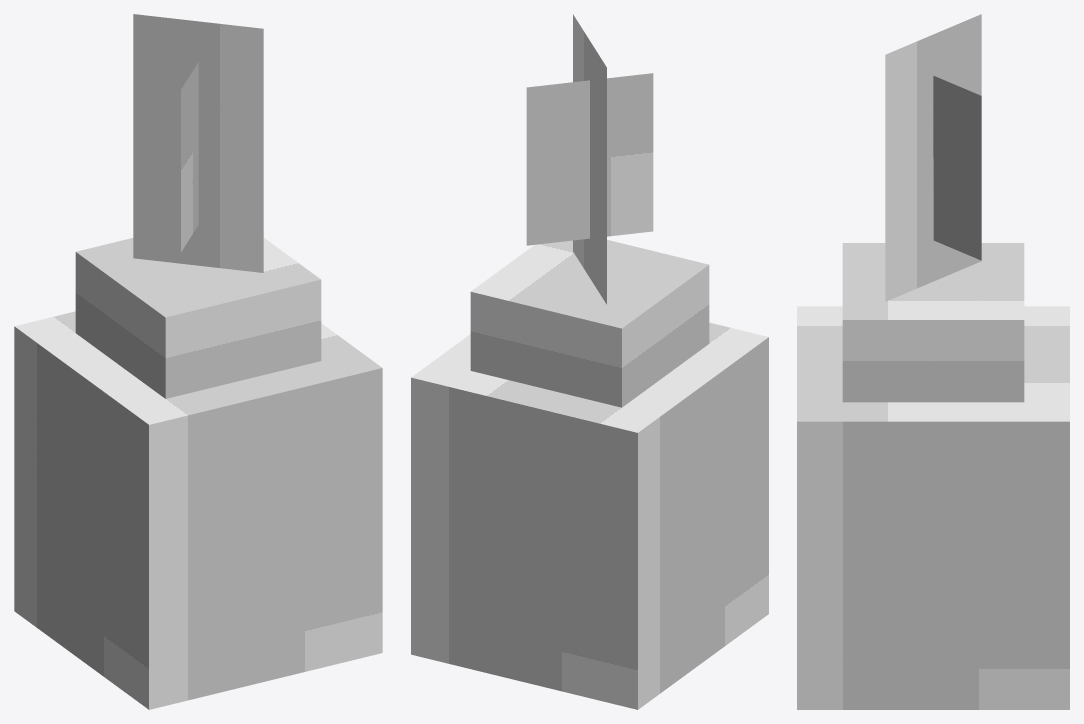
Rendered from block_template_hanging_lantern.gltf.
The picture shows the model from 3 angles, left to right: view 1: azimuth 30°, elevation 25°; view 2: azimuth 150°, elevation 25°; view 3: azimuth 270°, elevation 25°; orthographic projection. The views are drawn at different scales.
Visible parts, largest first — view 1: cube (×4); view 2: cube (×4); view 3: cube (×4).
Boxes of the visible parts, x1,y1,x2,y2 form: cube (×4): (14,14,382,709); cube (×4): (411,14,768,709); cube (×4): (797,14,1069,709).
Size of the model in its own units: 0.375 by 0.9375 by 0.375.
1 material, 1 textured.
